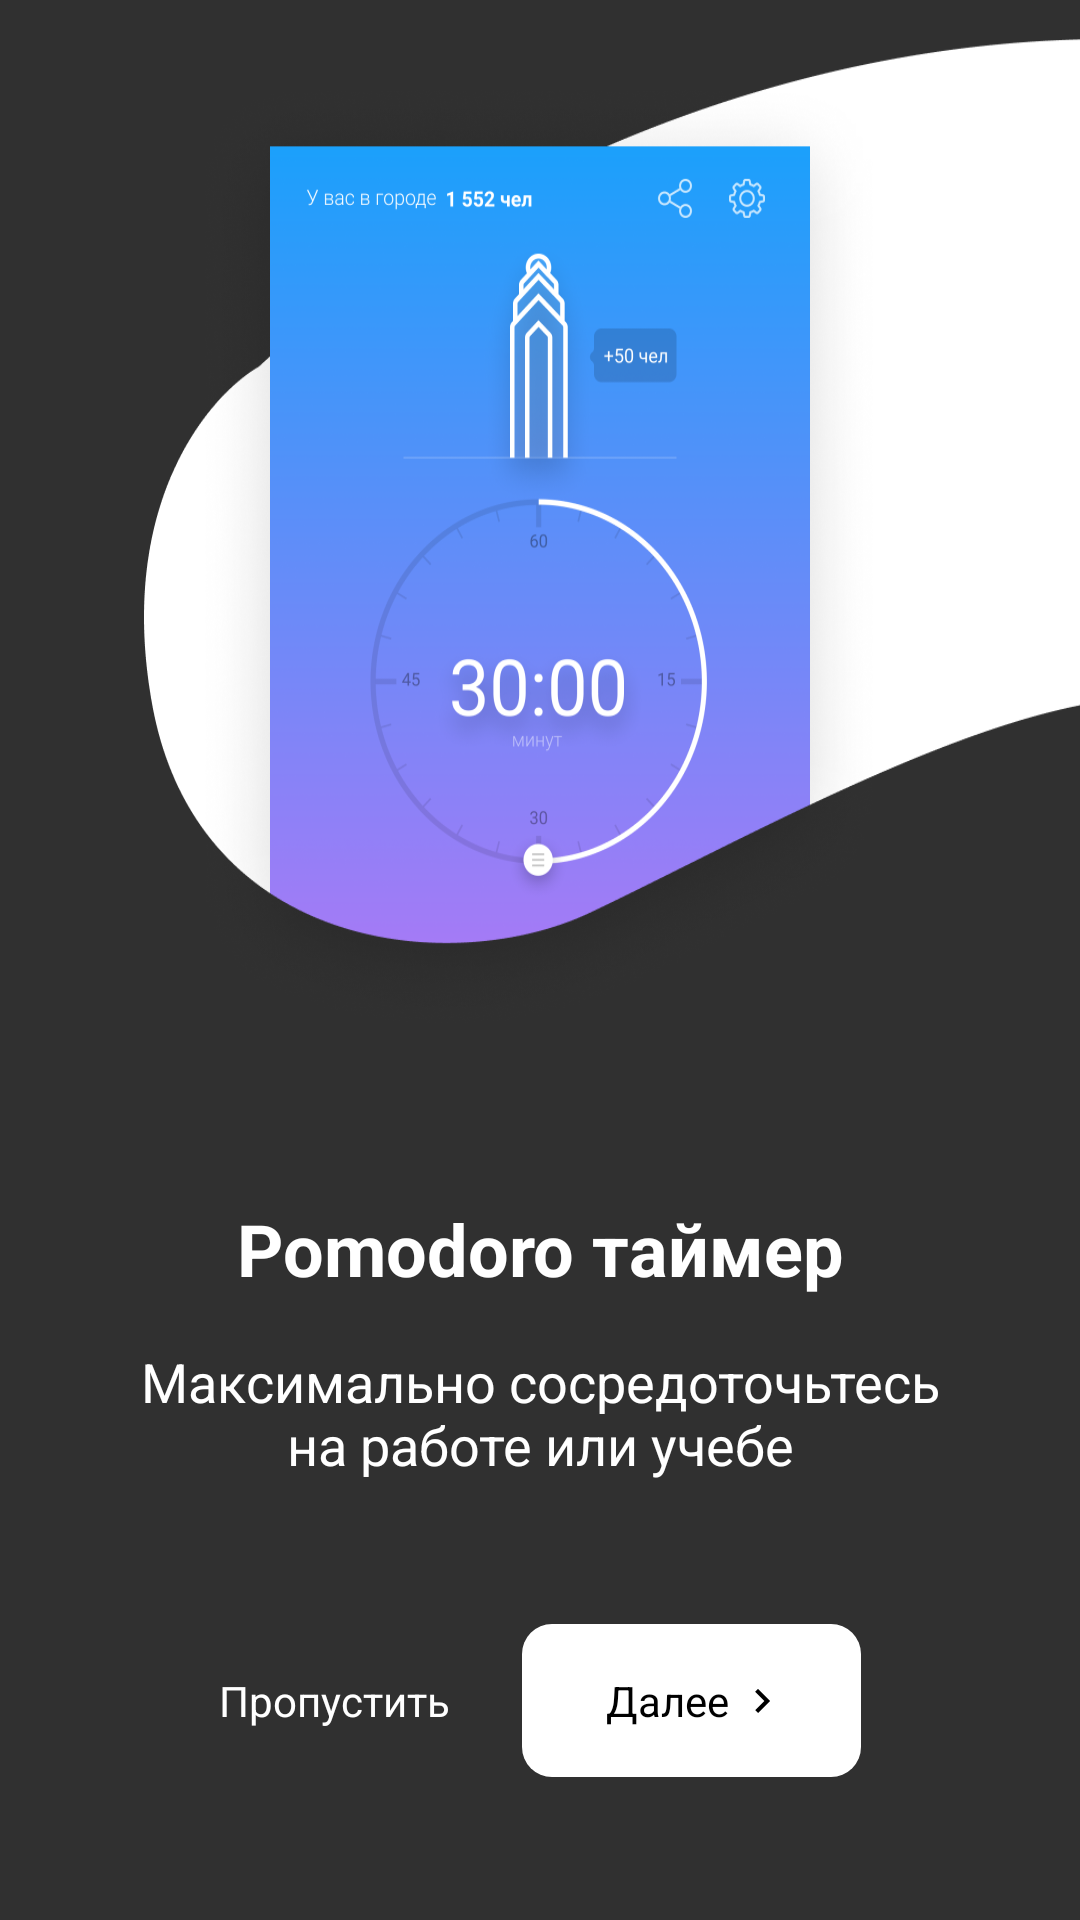

Point at icon controls on the screen. Image size 1080*1920, points as (x,y).
arrow right: (762,1701)
